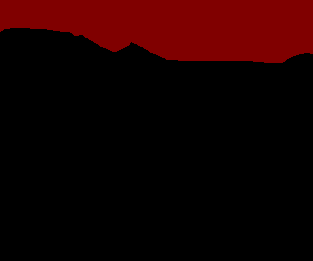Sky: (1, 1, 312, 63)
